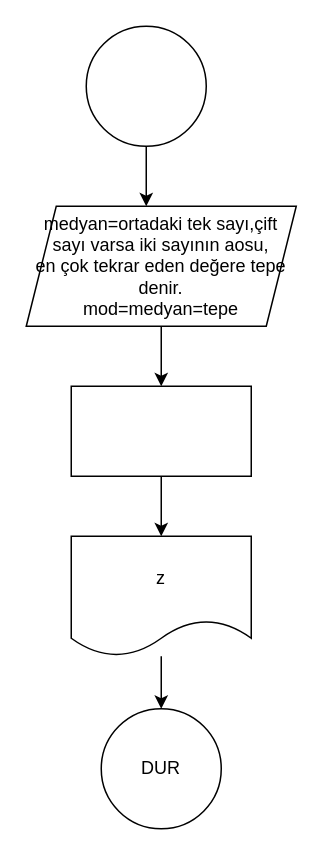
Some shapes in this 323 by 855 pixel diagram are drawn without their labels. Each missing label, with the centre of its shape:
BAŞLA: pixel 145 85
x,y,z bul: pixel 160 430
